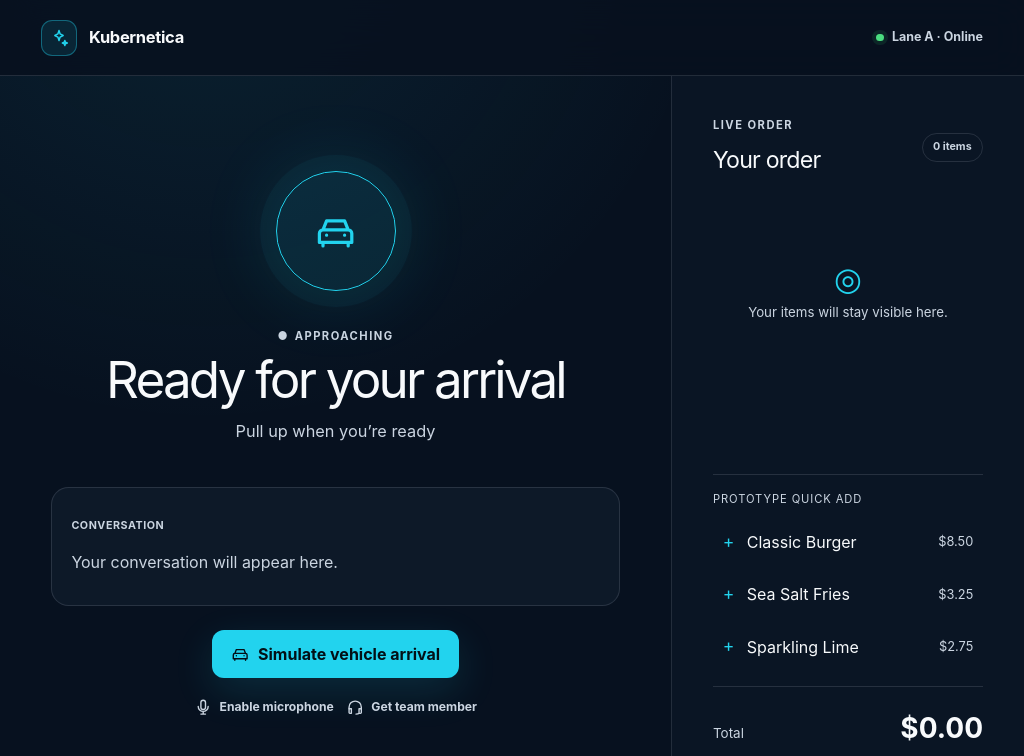
Test: LaneExperience › exposes human help with icon and text
The image size is (1024, 756).
Click the button "Get team member". click: point(411, 707)
box: top-left (346, 698), bottom-right (477, 717)
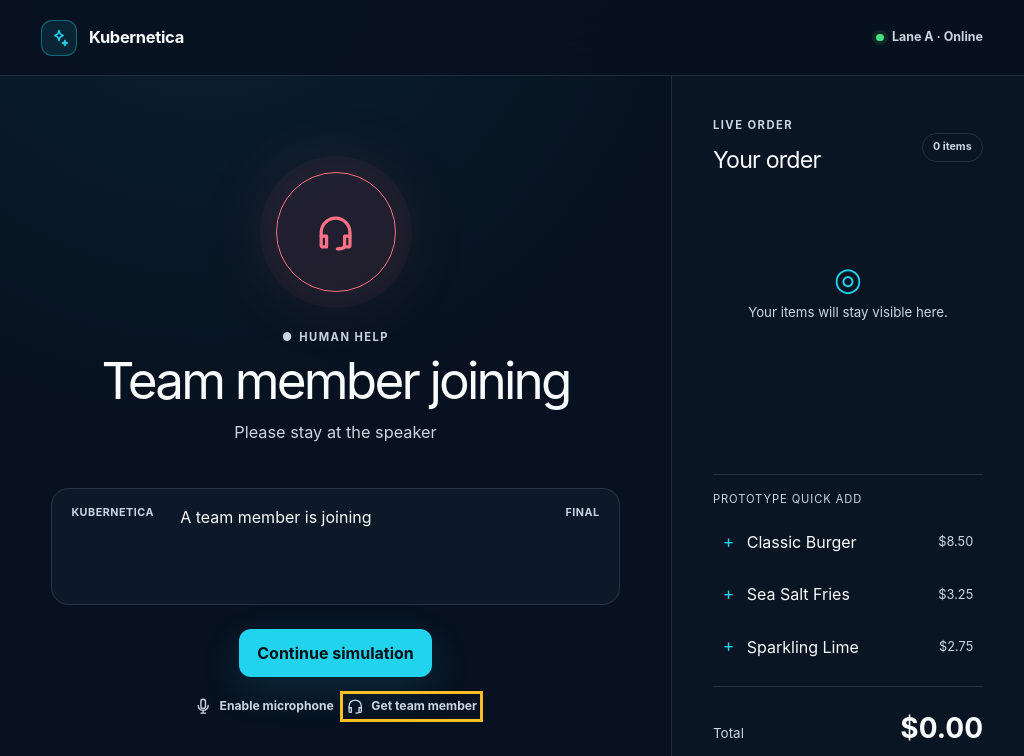
Result: the heading "Team member joining" is shown at top-left (102, 355), bottom-right (570, 406)
